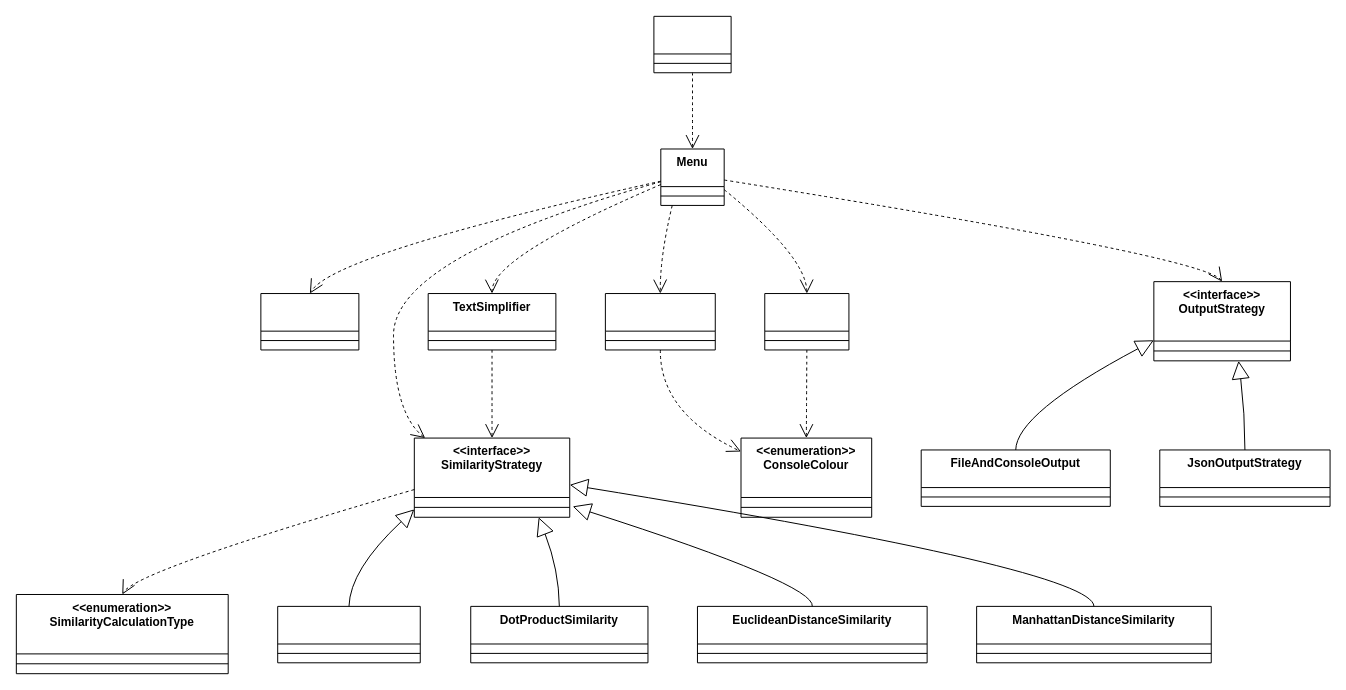
Some shapes in this 1346 by 690 pixel diagram are drawn without their labels. Each missing label, with the box of its shape:
CosineSimilarity: (277, 605, 420, 663)
FileParser: (260, 293, 359, 350)
HelpUtil: (764, 293, 849, 350)
MessageUtil: (604, 293, 715, 350)
Runner: (653, 15, 731, 73)
